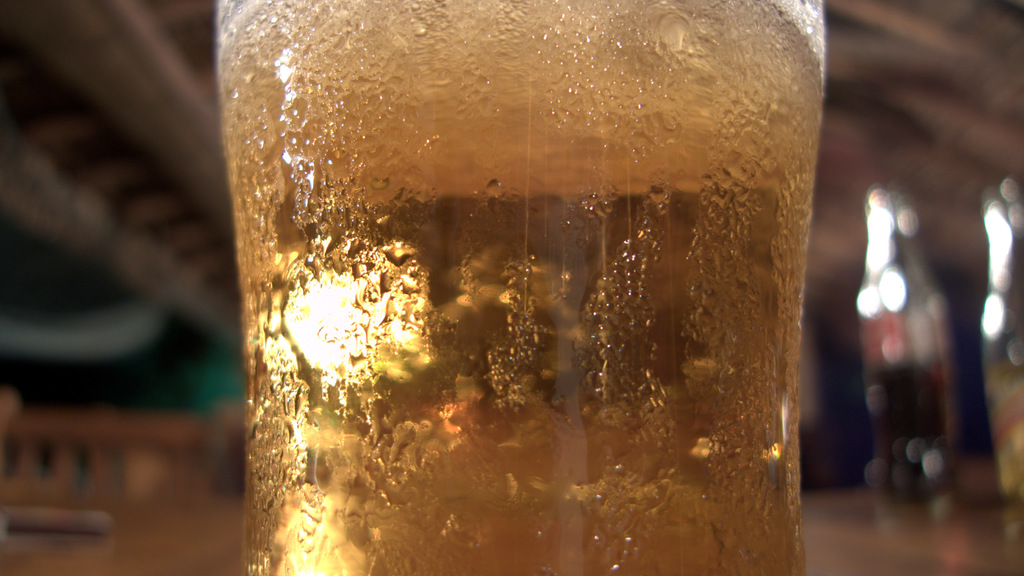Beer: (216, 0, 824, 575)
